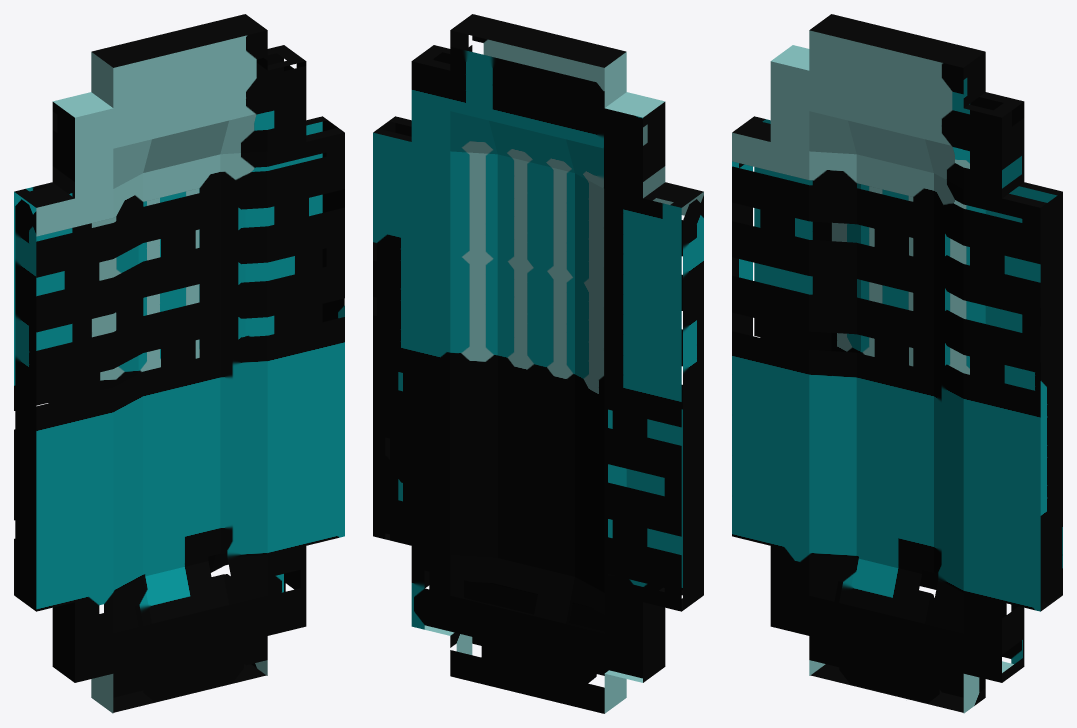
File: coin.obj
3 renders of one model, left to right at view 1: azimuth 30°, elevation 25°; view 2: azimuth 150°, elevation 25°; view 3: azimuth 330°, elevation 25°, orthographic.
Bounding box in the file's own units: 1 × 2 × 0.125.
